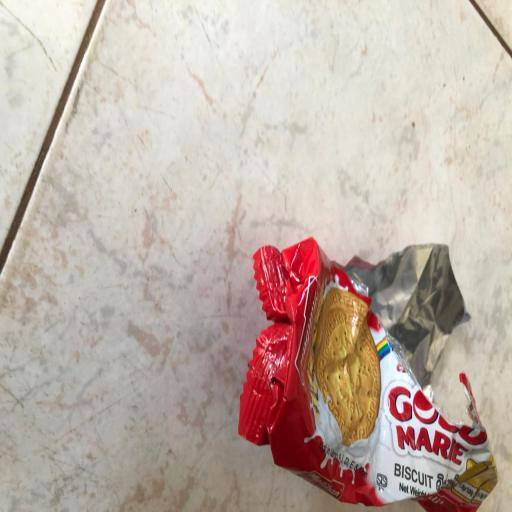waste: (236, 223, 502, 512)
